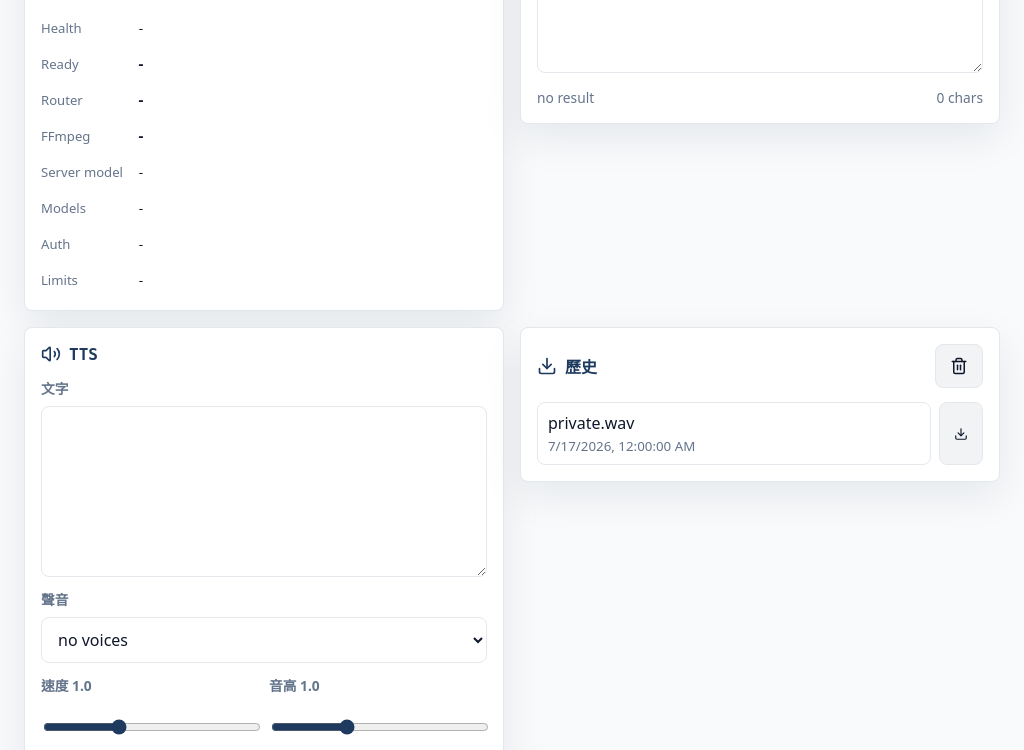
App › requires confirmation before irreversibly clearing transcript history
The image size is (1024, 750).
(page scrolled)
Click the button named "清除全部歷史": (959, 366) [935,344,983,388]
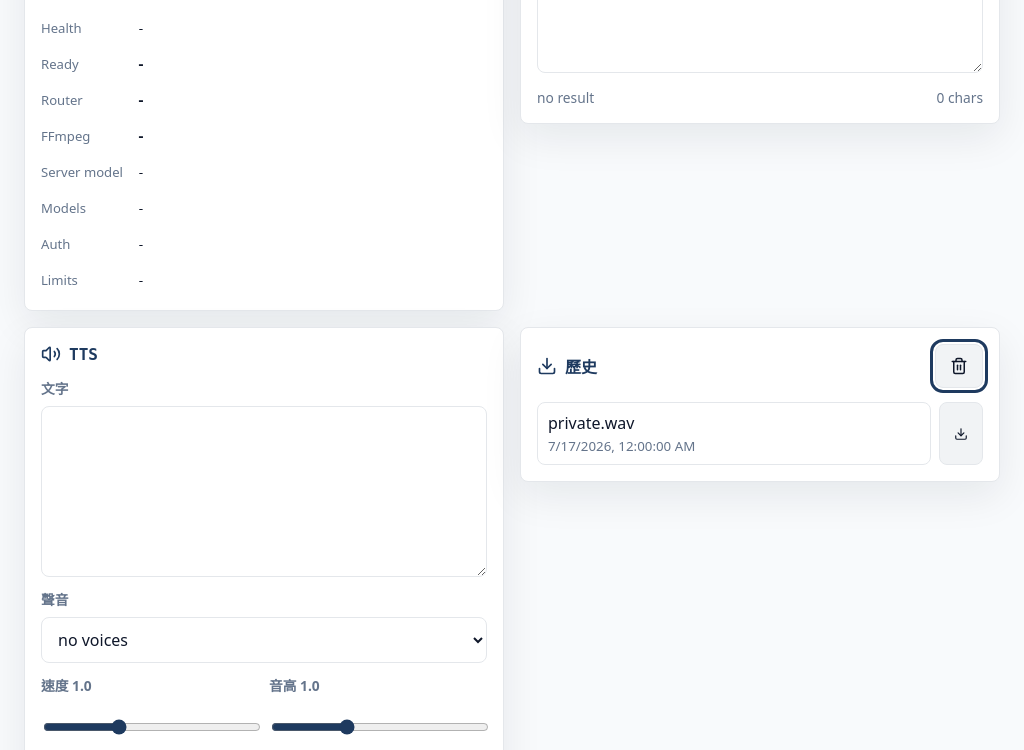
Expected: the text "private.wav" is shown, [548,412,634,434]
Click the button named "清除全部歷史": (959, 366) [935,344,983,388]
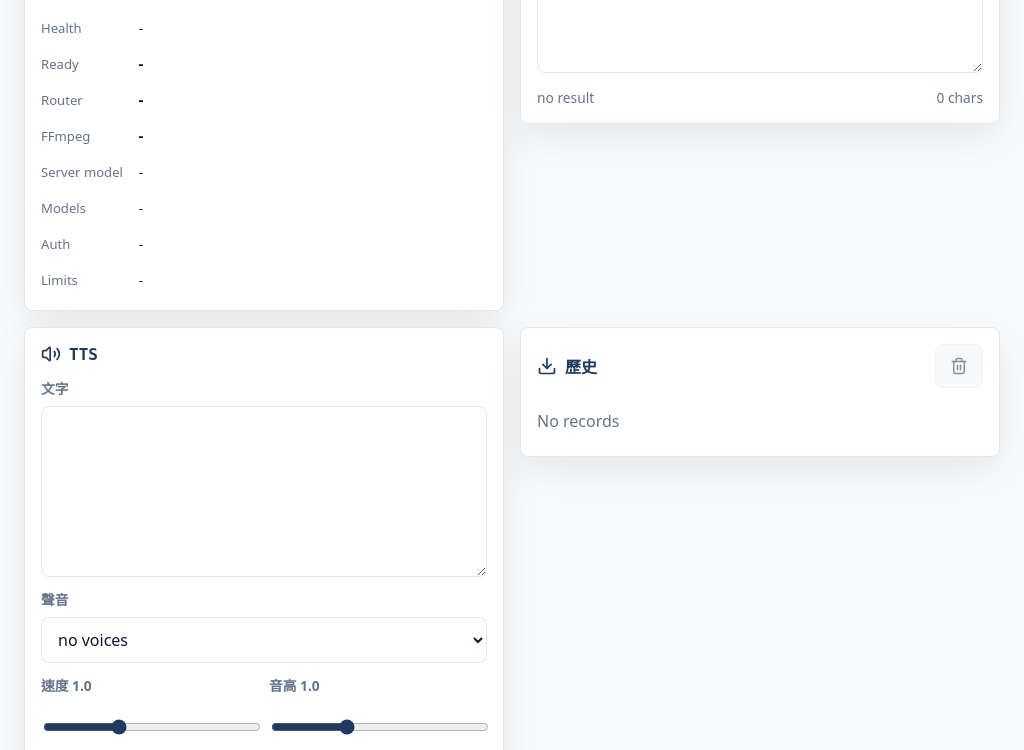
Now the text "No records" is shown, box [537,410,620,432]
